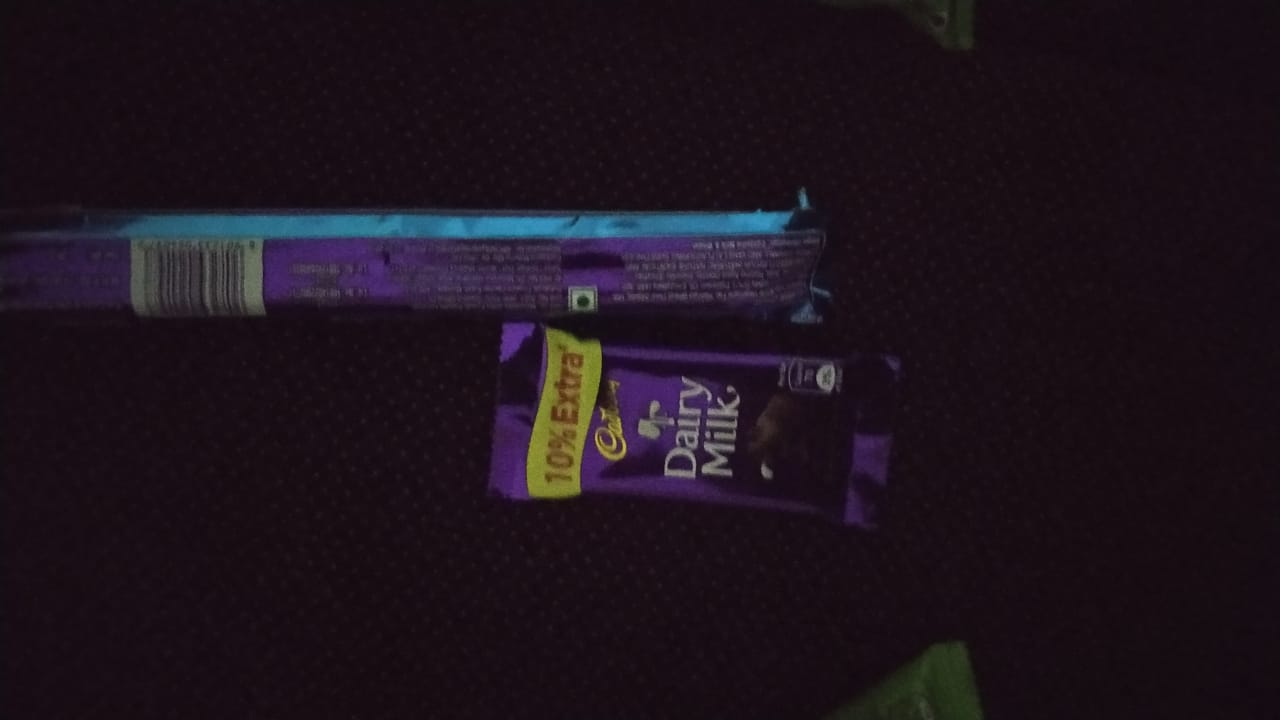dairy milk: (447, 316, 904, 527)
perk: (1, 168, 852, 330)
